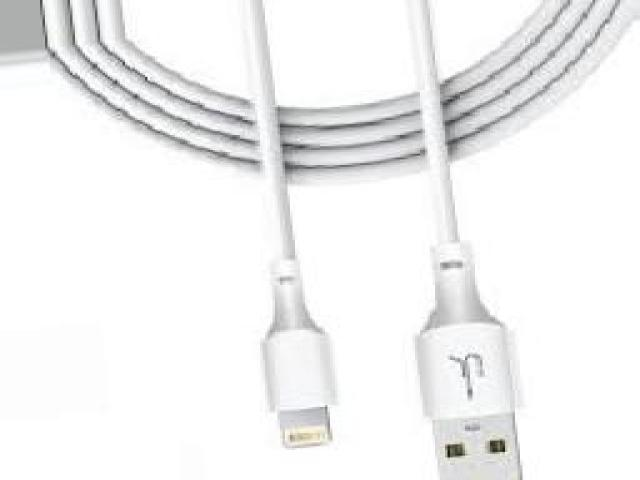wire: (44, 0, 621, 480)
